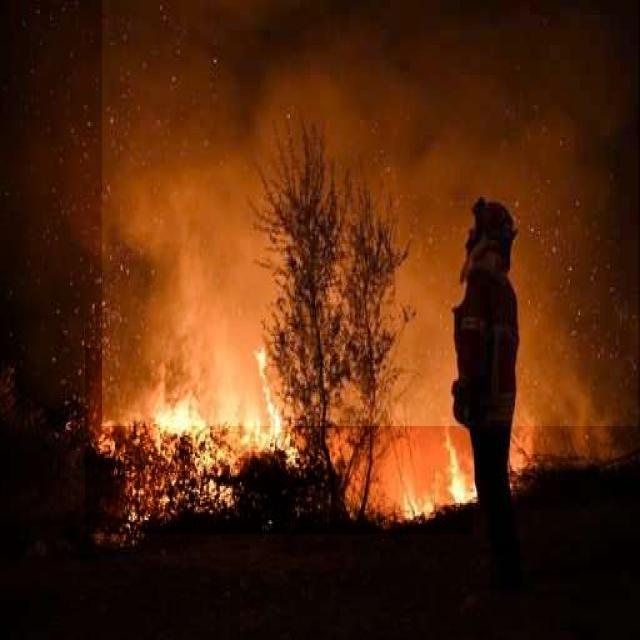Fire: (85, 348, 473, 534)
Smoke: (102, 0, 638, 426)
